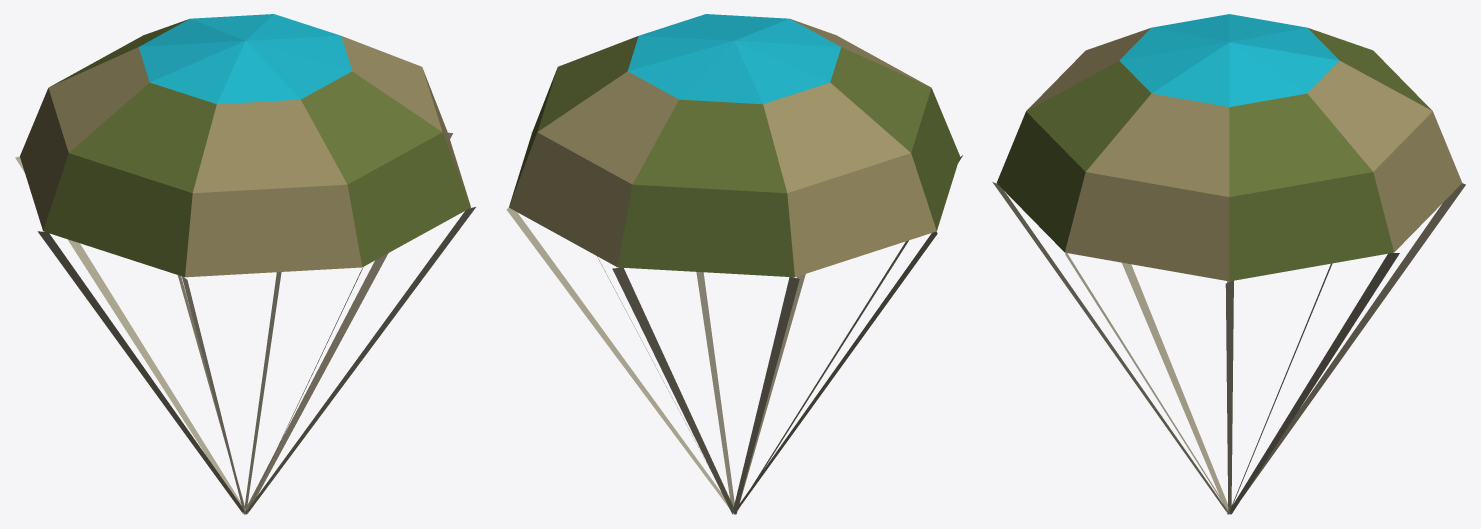
File: prop_parachute.glb
3 renders of one model, left to right at view 1: azimuth 30°, elevation 25°; view 2: azimuth 150°, elevation 25°; view 3: azimuth 270°, elevation 25°, orthographic.
Parts seen in each view (by area): view 1: prop_parachute; view 2: prop_parachute; view 3: prop_parachute.
Part boxes in pixels (x1,y1,x2,y2): prop_parachute: [15, 14, 475, 514]; prop_parachute: [506, 14, 962, 514]; prop_parachute: [992, 14, 1465, 514].
Bounding box in the file's own units: 6.12 × 6.7 × 6.12.
